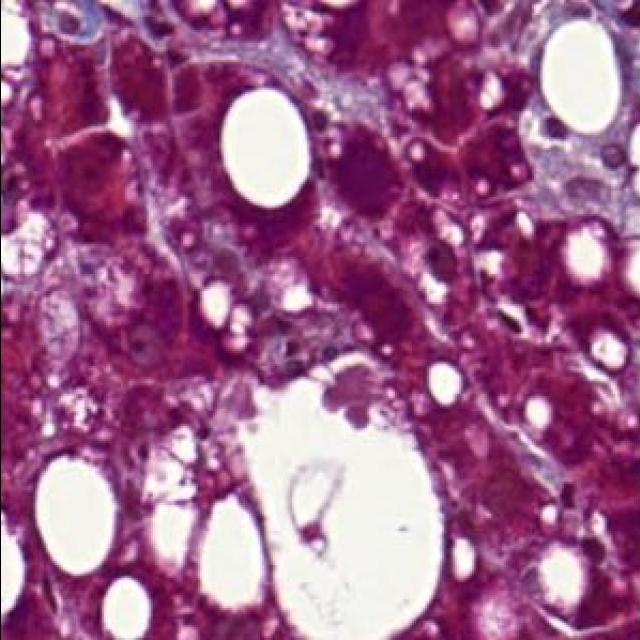ballooning: (238, 352, 444, 640), (141, 422, 271, 639), (122, 380, 214, 574), (1, 212, 48, 275)
